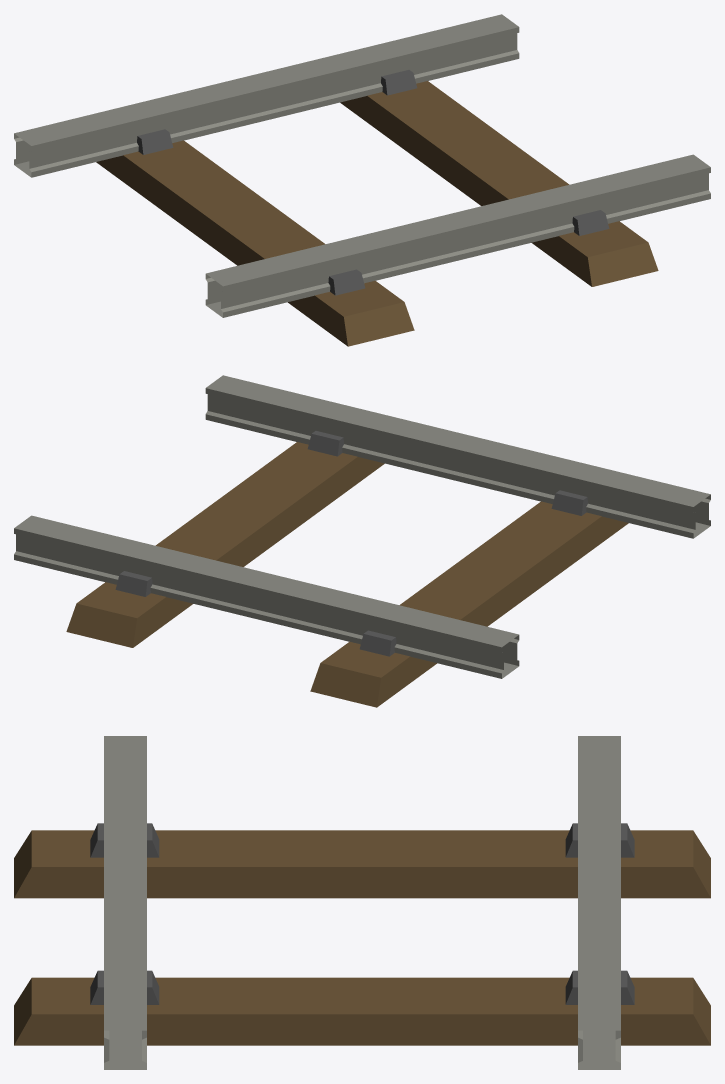
Rendered from straight.glb.
3 views of the same model, one above another, from view 1: azimuth 30°, elevation 25°; view 2: azimuth 150°, elevation 25°; view 3: azimuth 270°, elevation 25° (orthographic). The views are drawn at different scales.
Visible parts, largest first — view 1: Modular_Rail1; view 2: Modular_Rail1; view 3: Modular_Rail1.
Boxes of the visible parts, bbox=[...] form: Modular_Rail1: bbox=[14, 14, 710, 346]; Modular_Rail1: bbox=[14, 375, 710, 707]; Modular_Rail1: bbox=[14, 736, 710, 1069].
Size of the model in its own units: 2 by 0.217 by 2.
Materials: 1 (1 with a texture image).
